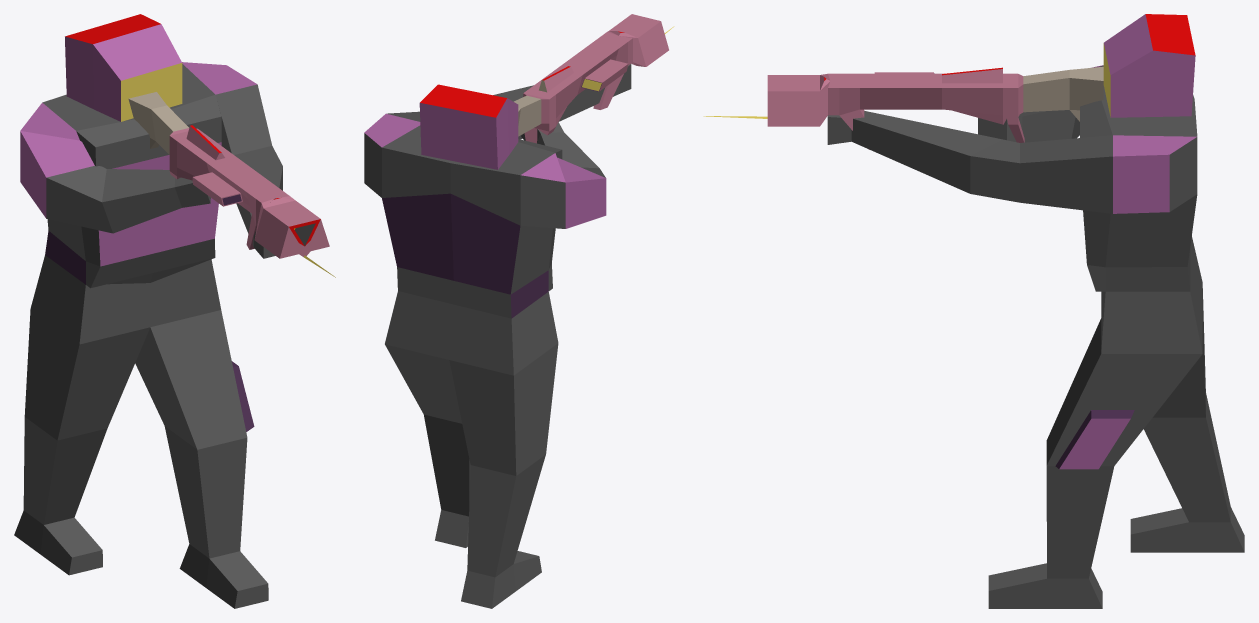
File: Dummy_man_fbx.fbx
The picture shows the model from 3 angles, left to right: view 1: azimuth 30°, elevation 25°; view 2: azimuth 150°, elevation 25°; view 3: azimuth 270°, elevation 25°; orthographic projection. The views are drawn at different scales.
Parts seen in each view (by area): view 1: Dummy_man, Gun, Dummy_head; view 2: Dummy_man, Gun, Dummy_head; view 3: Dummy_man, Gun, Dummy_head.
Boxes of the visible parts, x1,y1,x2,y2 form: Dummy_man: [14, 62, 282, 608]; Gun: [128, 92, 335, 277]; Dummy_head: [65, 14, 182, 121]; Dummy_man: [364, 64, 631, 608]; Gun: [514, 14, 674, 143]; Dummy_head: [419, 84, 518, 169]; Dummy_man: [827, 65, 1244, 608]; Gun: [703, 66, 1103, 149]; Dummy_head: [1103, 14, 1195, 117].
Size of the model in its own units: 1 by 2.22 by 2.
